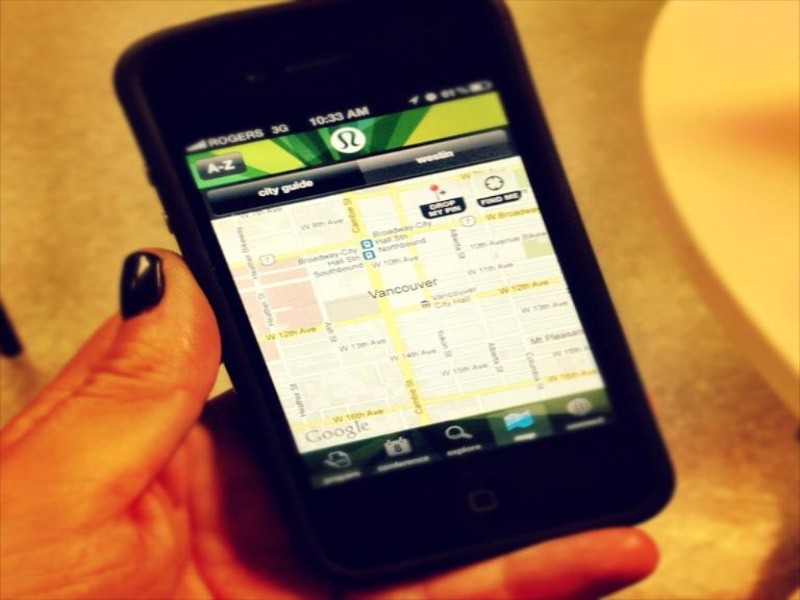cellphone: (102, 1, 680, 588)
